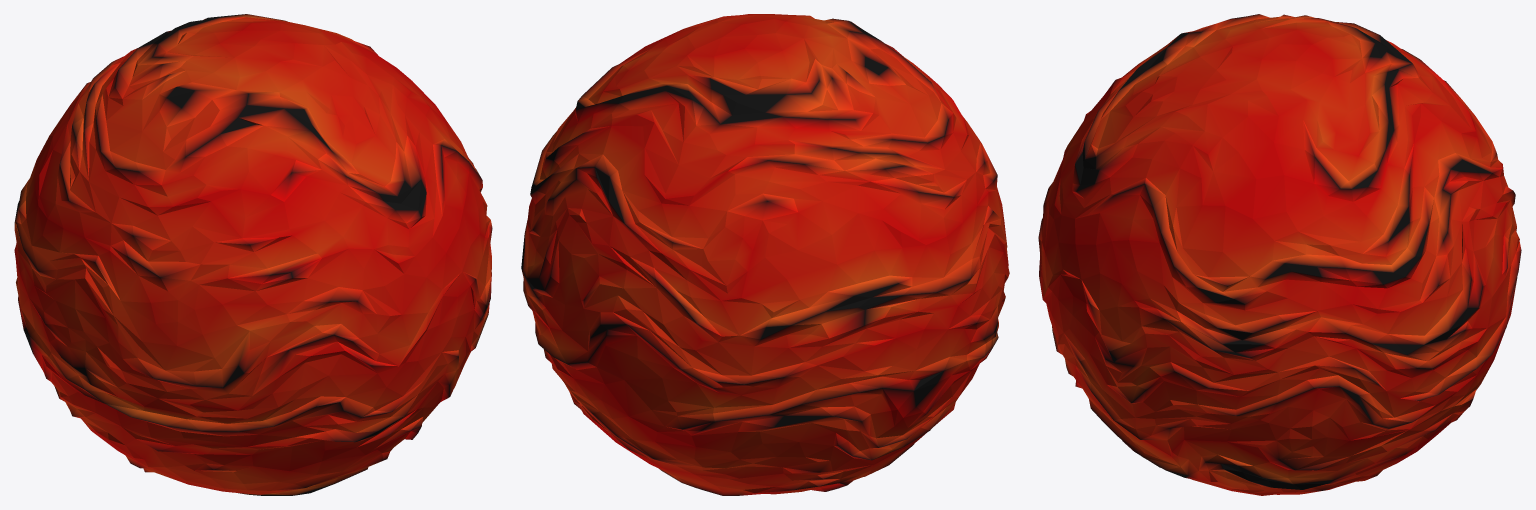
File: volcanic_planet_6.fbx
3 views of the same model, side by side, from view 1: azimuth 30°, elevation 25°; view 2: azimuth 150°, elevation 25°; view 3: azimuth 270°, elevation 25° (orthographic).
Visible parts, largest first — view 1: filecache2; view 2: filecache2; view 3: filecache2.
Boxes of the visible parts, bbox=[...] form: filecache2: bbox=[14, 14, 492, 495]; filecache2: bbox=[521, 14, 1009, 495]; filecache2: bbox=[1038, 14, 1521, 495].
Bounding box in the file's own units: 2.04 × 2.02 × 2.03.
